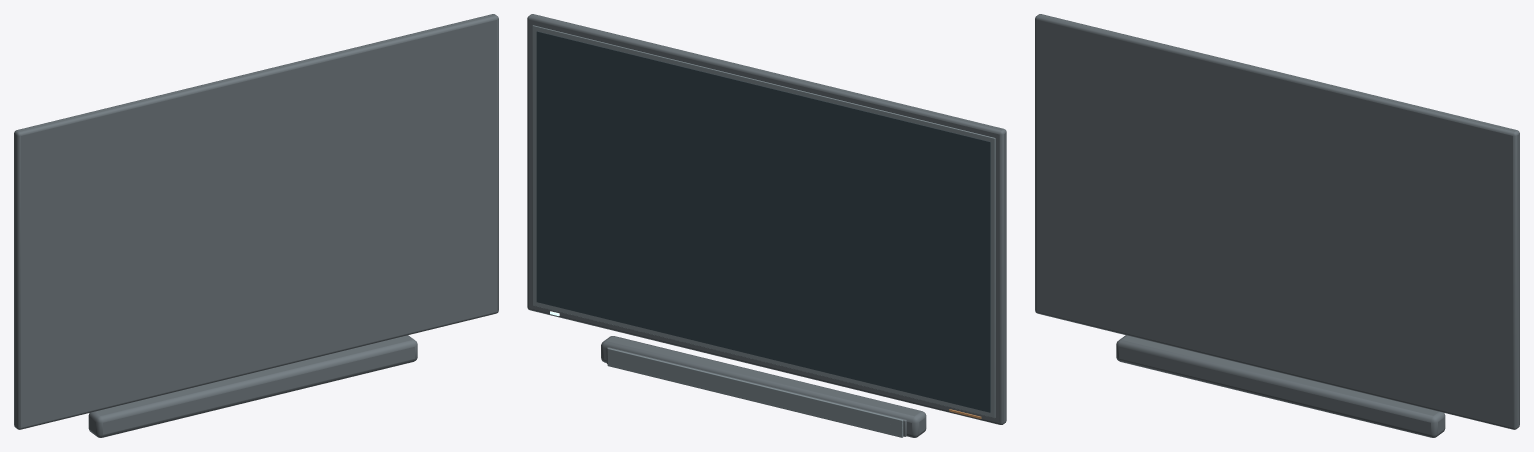
Rendered from projector_screen.glb.
The picture shows the model from 3 angles, left to right: view 1: azimuth 30°, elevation 25°; view 2: azimuth 150°, elevation 25°; view 3: azimuth 330°, elevation 25°; orthographic projection.
Visible parts, largest first — view 1: frame_graphite, sound_bar_graphite; view 2: display_screen_glass_dark_glass, frame_graphite, bezel_dark_alloy, sound_bar_grille_dark_alloy, sound_bar_graphite; view 3: frame_graphite, sound_bar_graphite.
Part boxes in pixels (x1,y1,x2,y2): frame_graphite: [14, 14, 498, 429]; sound_bar_graphite: [88, 335, 417, 437]; display_screen_glass_dark_glass: [536, 31, 990, 412]; frame_graphite: [527, 14, 1006, 424]; bezel_dark_alloy: [532, 25, 995, 417]; sound_bar_grille_dark_alloy: [606, 347, 906, 437]; sound_bar_graphite: [601, 336, 926, 437]; frame_graphite: [1035, 14, 1519, 429]; sound_bar_graphite: [1116, 335, 1445, 437].
Size of the model in its own units: 2.1 by 1.36 by 0.112.
